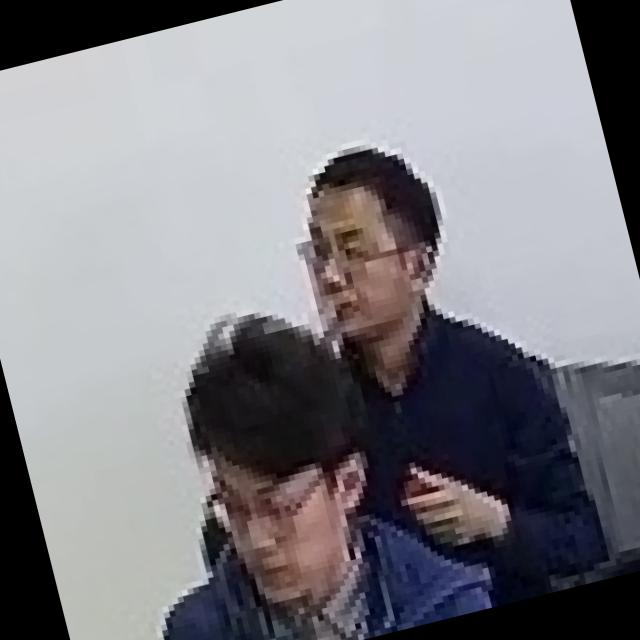drink: (258, 57, 614, 633)
listen: (88, 258, 471, 640)
